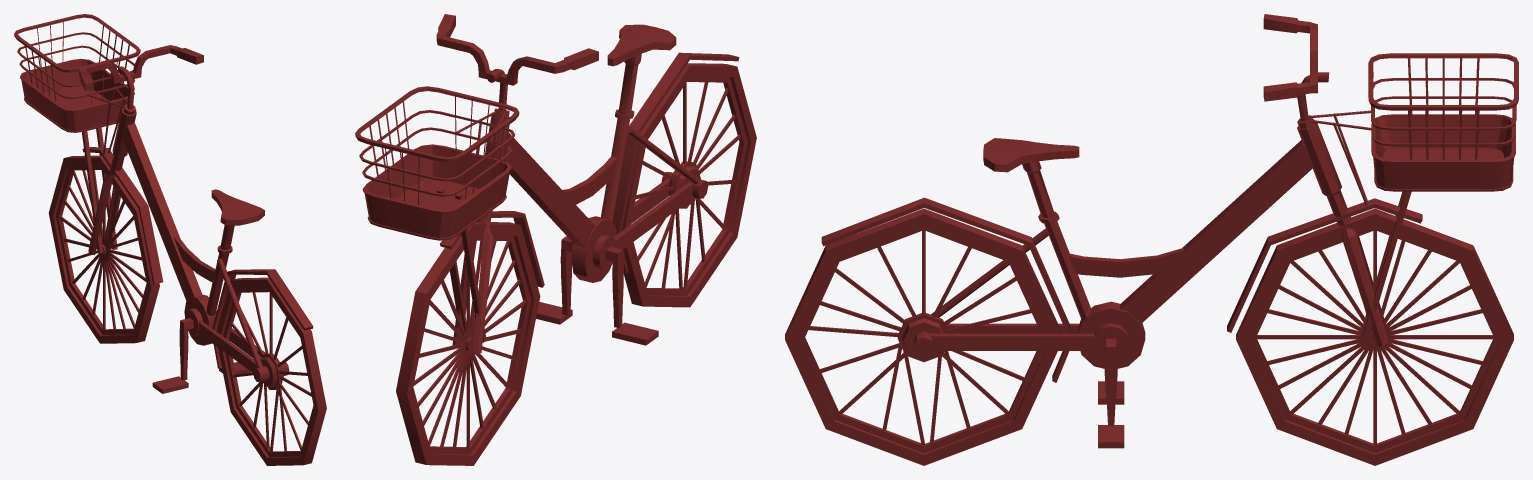
File: bike.fbx
3 views of the same model, side by side, from view 1: azimuth 30°, elevation 25°; view 2: azimuth 150°, elevation 25°; view 3: azimuth 270°, elevation 25° (orthographic). The views are drawn at different scales.
Parts seen in each view (by area): view 1: Cylinder009, ', Object015; view 2: Cylinder009, ', Object015; view 3: Cylinder009, ', Object015.
Boxes of the visible parts, x1=… form: Cylinder009: x1=14, y1=14, x2=313, y2=393; ': x1=48, y1=155, x2=159, y2=343; Object015: x1=216, y1=277, x2=326, y2=465; Cylinder009: x1=355, y1=14, x2=739, y2=353; ': x1=396, y1=222, x2=540, y2=465; Object015: x1=621, y1=63, x2=756, y2=307; Cylinder009: x1=821, y1=14, x2=1518, y2=448; ': x1=1236, y1=208, x2=1513, y2=465; Object015: x1=785, y1=208, x2=1062, y2=465.
Size of the model in its own units: 44.56 by 109 by 176.
